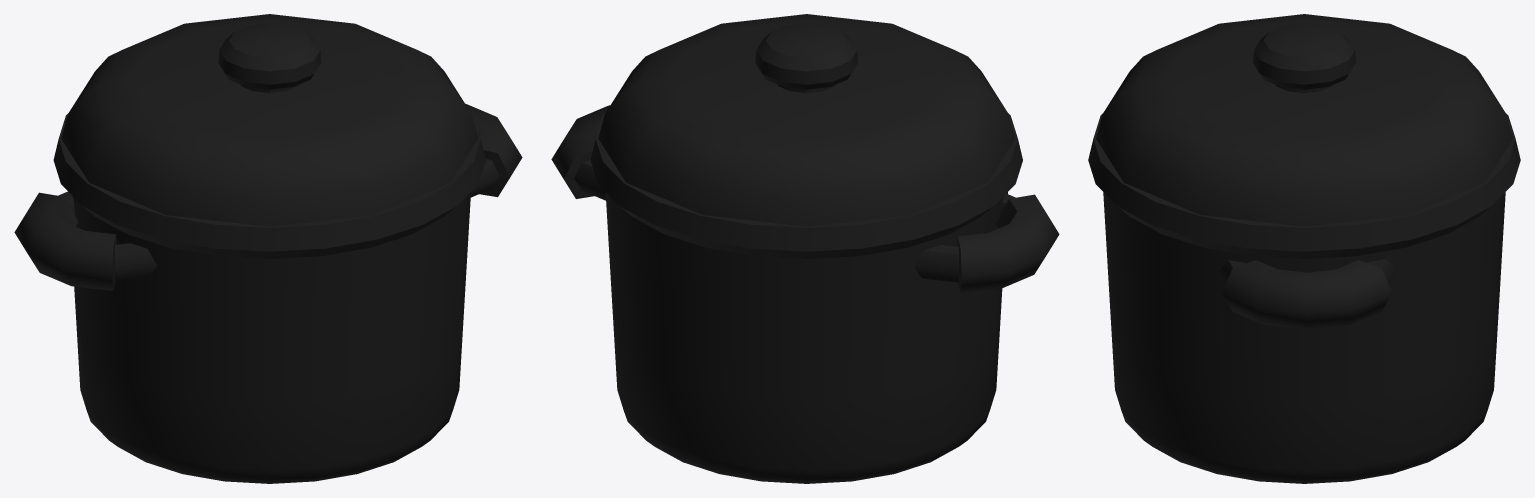
File: Stock_Pot_01_Burnt.fbx
The picture shows the model from 3 angles, left to right: view 1: azimuth 30°, elevation 25°; view 2: azimuth 150°, elevation 25°; view 3: azimuth 270°, elevation 25°; orthographic projection.
Parts seen in each view (by area): view 1: Stock_Pot_01_Burnt, Stock_Pot_01_Burnt_Lid; view 2: Stock_Pot_01_Burnt, Stock_Pot_01_Burnt_Lid; view 3: Stock_Pot_01_Burnt, Stock_Pot_01_Burnt_Lid.
Part boxes in pixels (bbox=[...]): Stock_Pot_01_Burnt: bbox=[14, 103, 522, 483]; Stock_Pot_01_Burnt_Lid: bbox=[61, 14, 478, 226]; Stock_Pot_01_Burnt: bbox=[551, 105, 1059, 483]; Stock_Pot_01_Burnt_Lid: bbox=[598, 14, 1015, 226]; Stock_Pot_01_Burnt: bbox=[1088, 113, 1520, 483]; Stock_Pot_01_Burnt_Lid: bbox=[1096, 14, 1512, 226].
Size of the model in its own units: 93.01 by 69.68 by 72.42.
